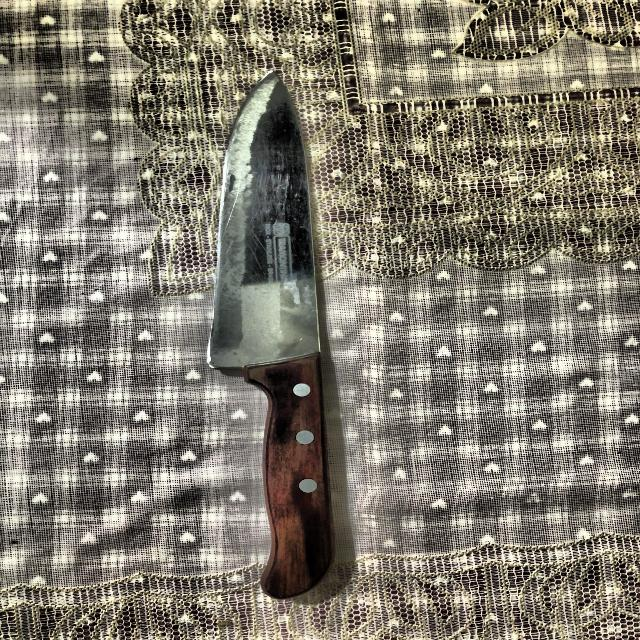knife: (205, 73, 336, 598)
